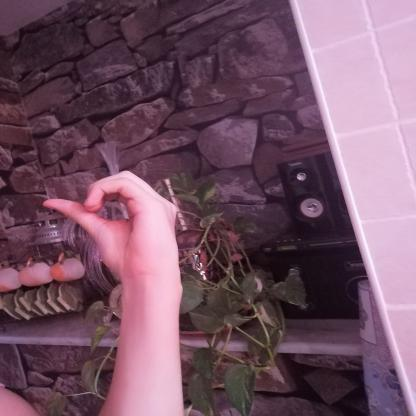WAW: (27, 163, 193, 291)
